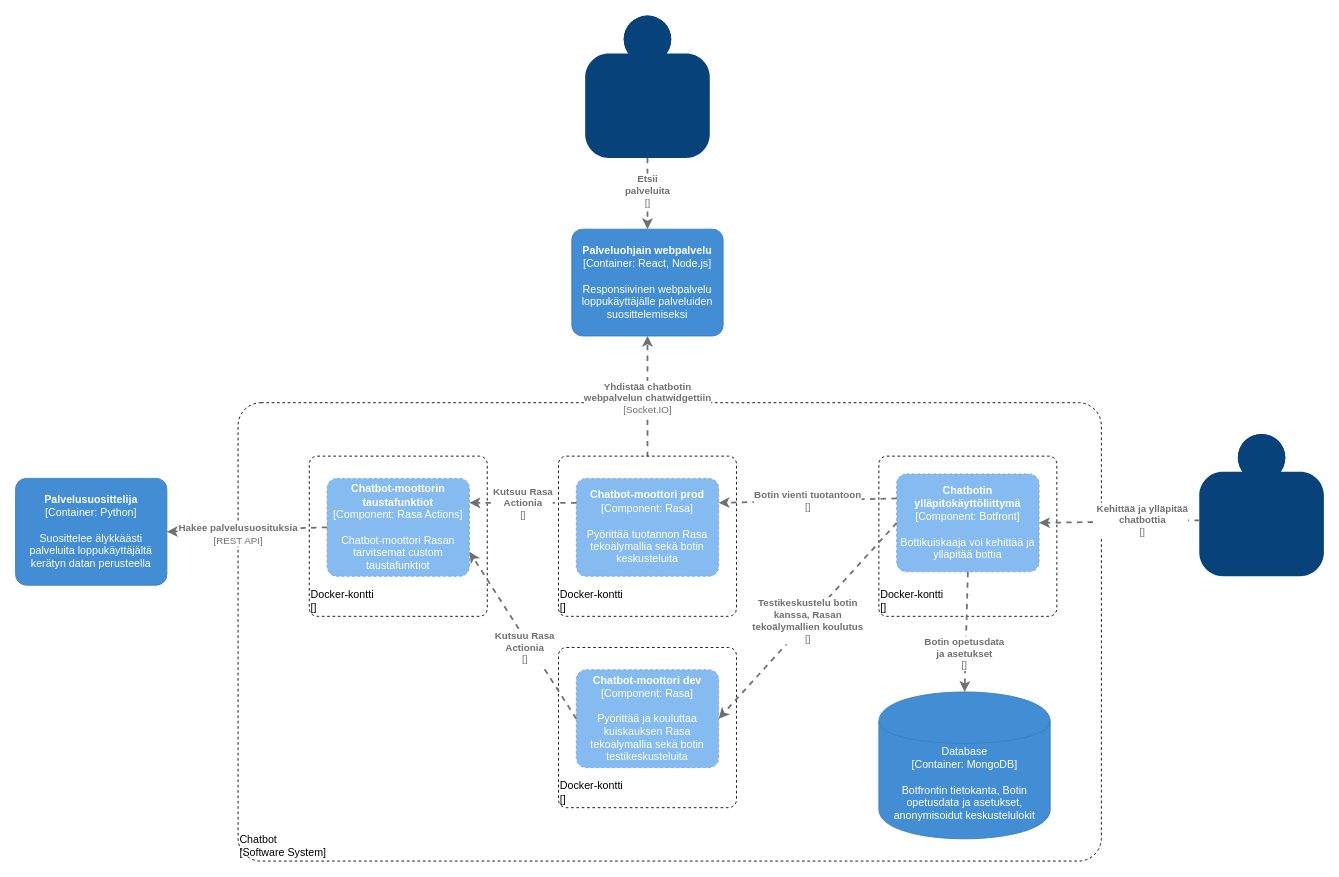
Image size: 1339x877. Some labels were removed from this diagram. The centre of each missing label's shape, as x and y in pixels:
Bottikuiskaaja [Person]: [1261,504]
Loppukäyttäjä [Person] Varsinaissuomalainen henkilö: [647,86]
